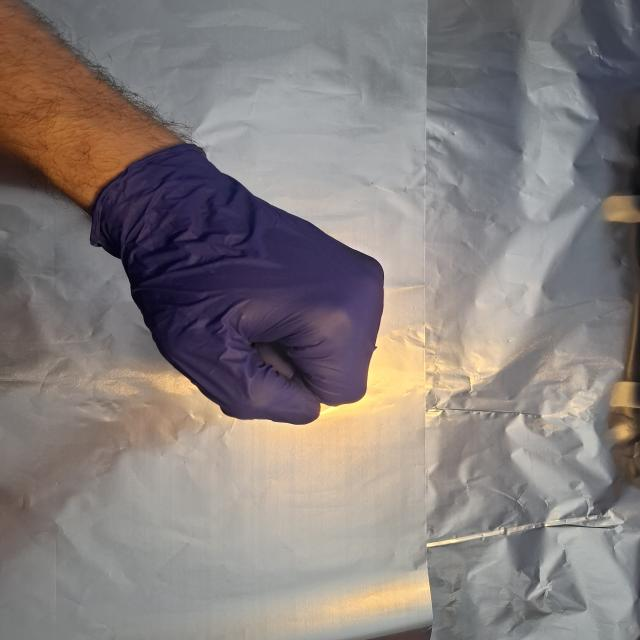glove_on: (82, 144, 390, 433)
